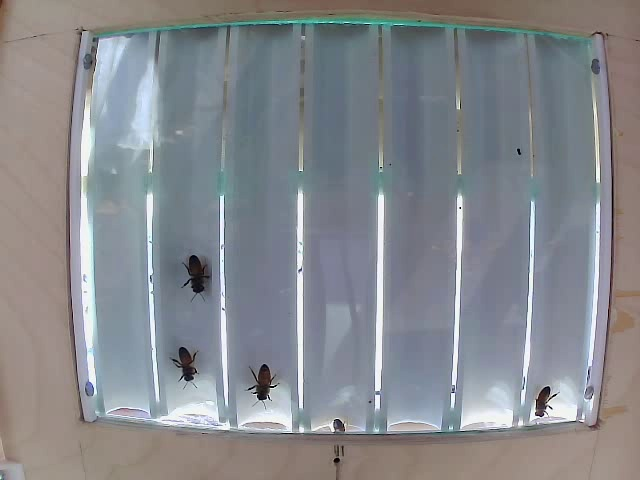bee: (522, 374, 572, 419), (243, 354, 278, 418), (176, 247, 211, 295), (172, 346, 198, 386)
